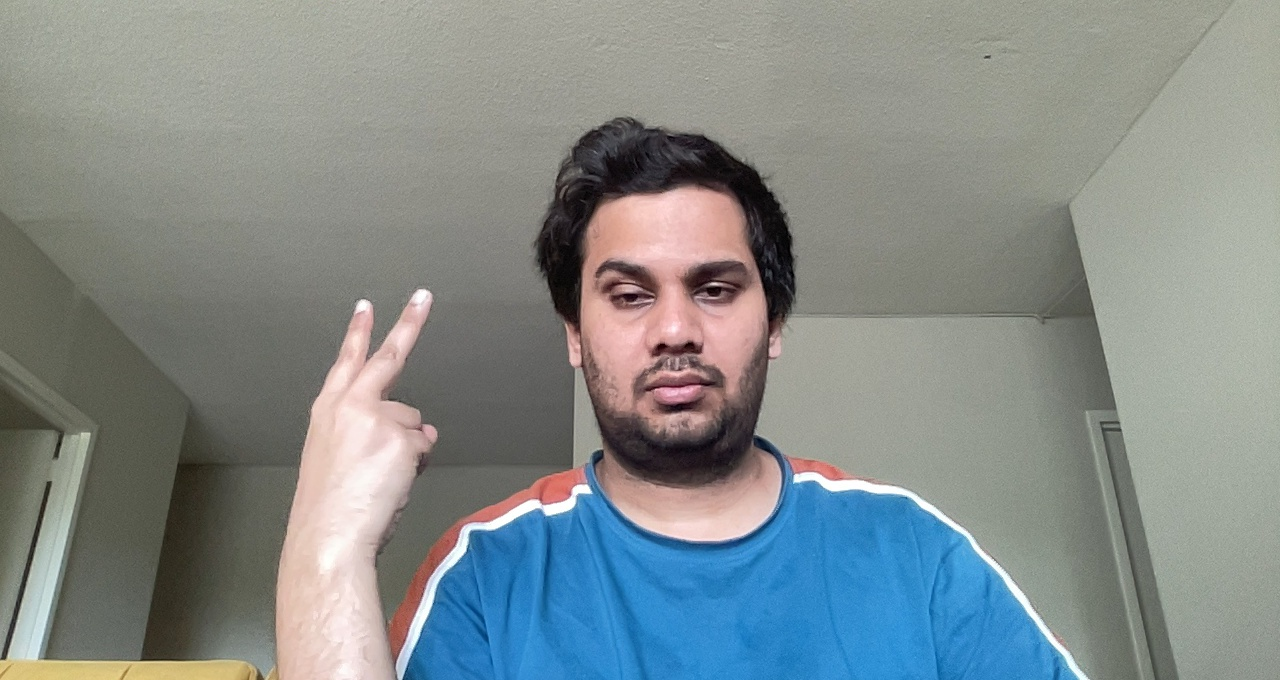peace sign: (288, 284, 460, 566)
